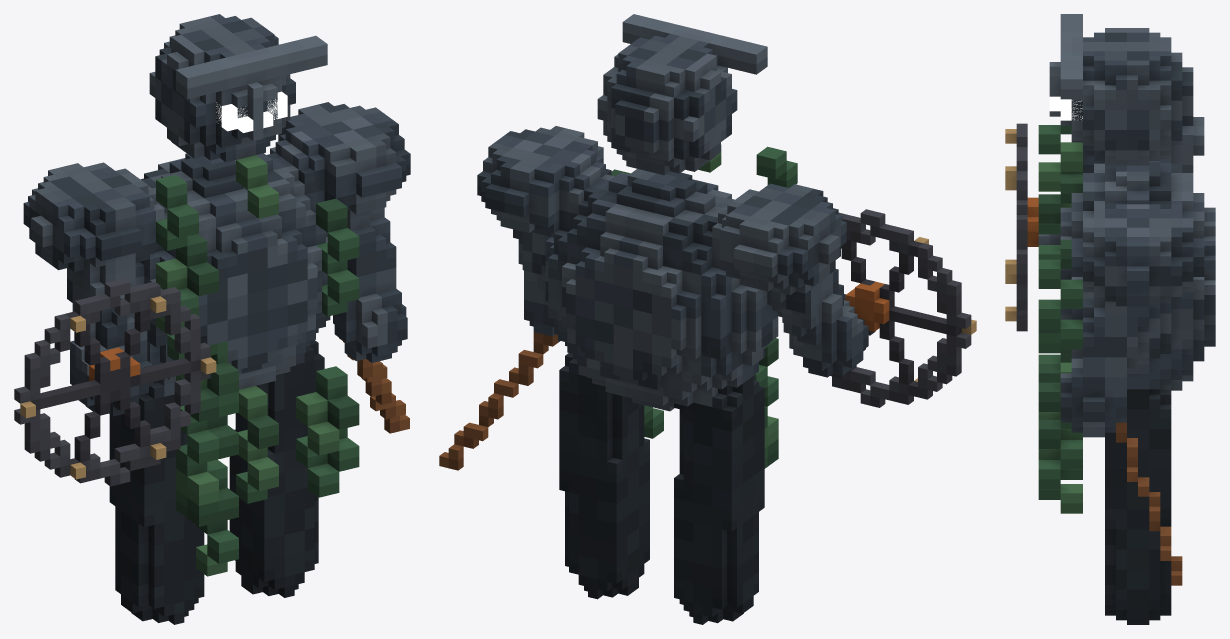
Rendered from u_tenant.glb.
3 renders of one model, left to right at view 1: azimuth 30°, elevation 25°; view 2: azimuth 150°, elevation 25°; view 3: azimuth 270°, elevation 25°, orthographic. The views are drawn at different scales.
Visible parts, largest first — view 1: tenant_body, tenant_glow; view 2: tenant_body; view 3: tenant_body, tenant_glow.
Boxes of the visible parts, left/top/right/bottom form: tenant_body: left=14, top=14, right=410, bottom=624; tenant_glow: left=216, top=91, right=287, bottom=132; tenant_body: left=439, top=14, right=976, bottom=624; tenant_body: left=1005, top=14, right=1215, bottom=624; tenant_glow: left=1049, top=96, right=1082, bottom=120.
Size of the model in its own units: 1.18 by 1.35 by 0.475.
